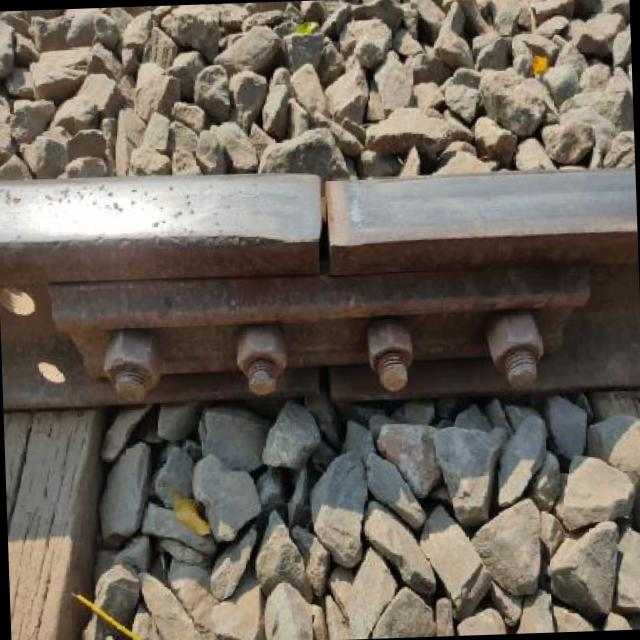defective: (0, 66, 640, 533)
